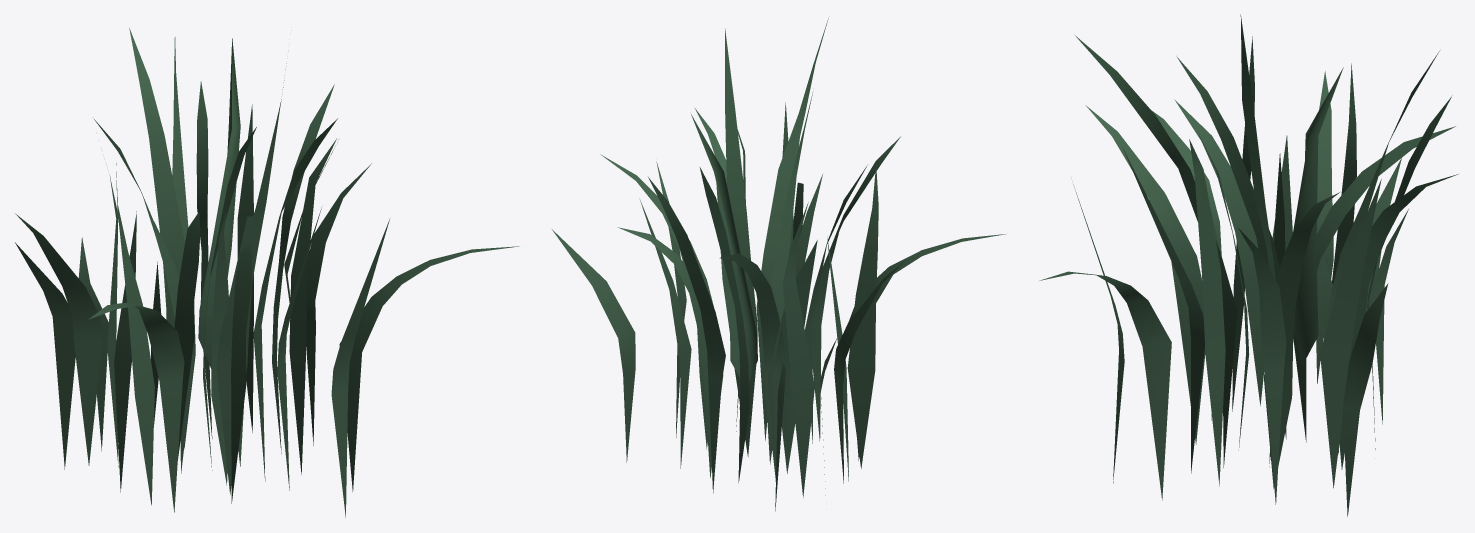
3 views of the same model, side by side, from view 1: azimuth 30°, elevation 25°; view 2: azimuth 150°, elevation 25°; view 3: azimuth 270°, elevation 25° (orthographic). The views are drawn at different scales.
Visible parts, largest first — view 1: alt5.124; view 2: alt5.124; view 3: alt5.124.
Boxes of the visible parts, x1,y1,x2,y2 form: alt5.124: [15, 28, 519, 517]; alt5.124: [552, 18, 1005, 511]; alt5.124: [1039, 14, 1458, 516].
Size of the model in its own units: 0.446 by 0.5 by 0.4026.
